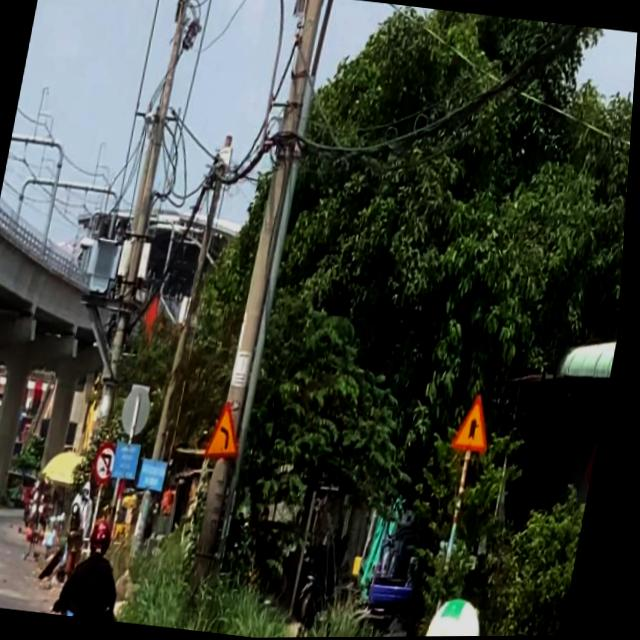Giao nhau voi duong khong uu tien ben phai: (455, 385, 506, 458)
cho ngoat nguy hiem vong ben trai: (207, 396, 256, 467)
